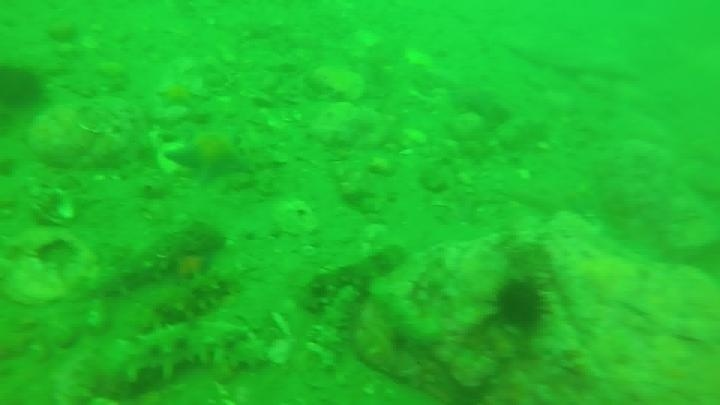echinus: (492, 277, 548, 332), (1, 63, 47, 111)
holothurian: (84, 319, 269, 393), (86, 218, 219, 299), (300, 243, 405, 315), (149, 268, 239, 328), (308, 283, 361, 371)
starfish: (163, 125, 255, 185), (154, 77, 206, 112)
